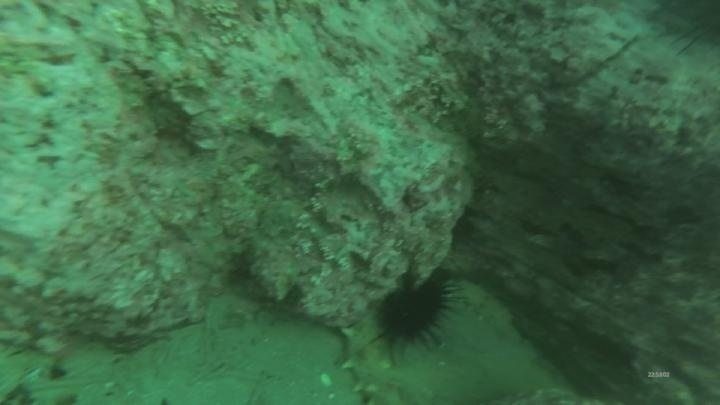echinus: (370, 271, 459, 352), (649, 1, 719, 57)
holothurian: (336, 306, 405, 405), (446, 275, 518, 342)
